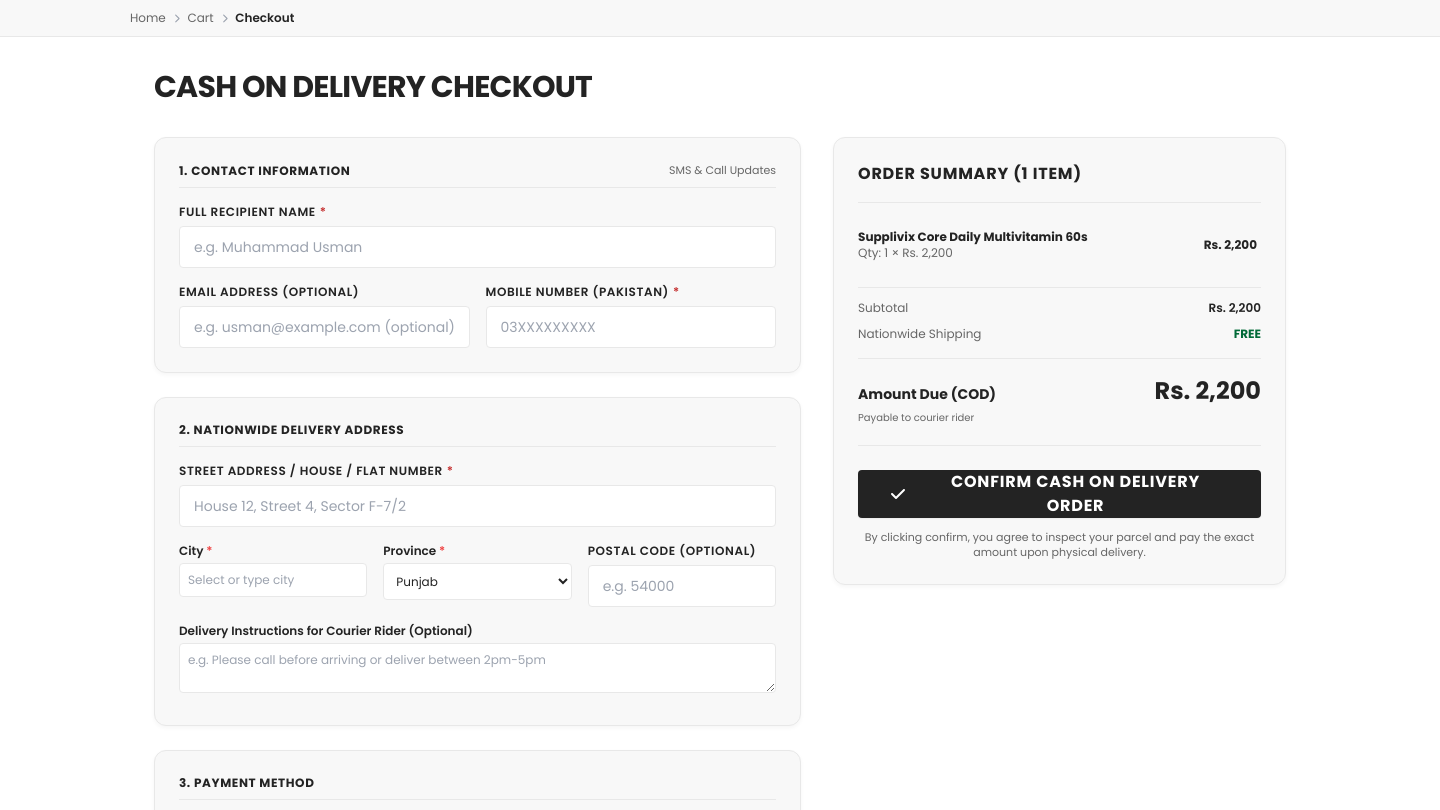
Test: Phase 9: Cart, Shipping, Coupon & COD Component Suite › COD-05: CheckoutPage validates Pakistani mobile number format strictly
This screenshot has width=1440, height=810.
Expected: the heading "Cash on Delivery Checkout" is shown, [154,66,592,108]
Type "12345" into the field labelled "Mobile Number (Pakistan)*" at (631,327), box [486,306,776,348]
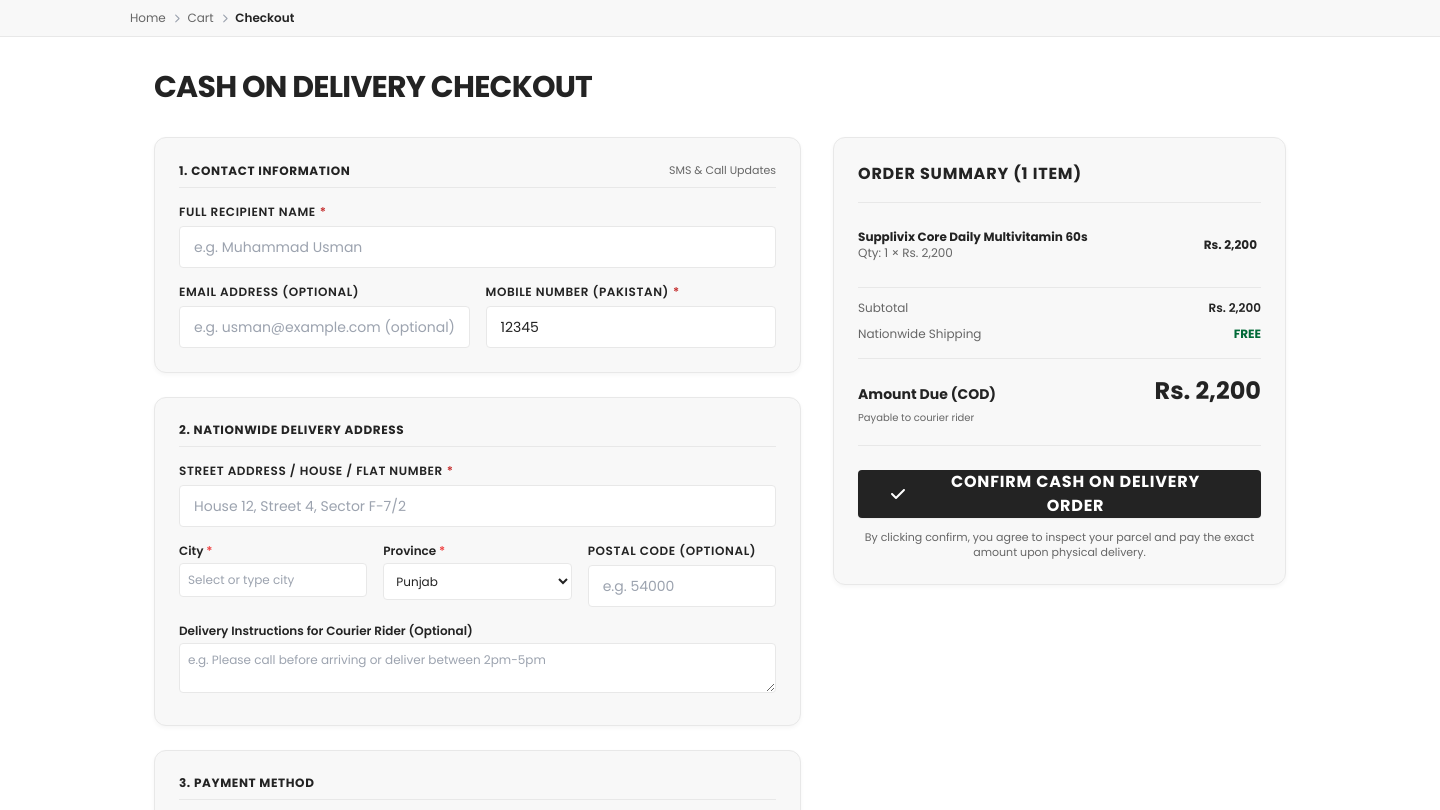
Click the button "Confirm Cash on Delivery Order" at (1060,494), box [858,470,1261,518]
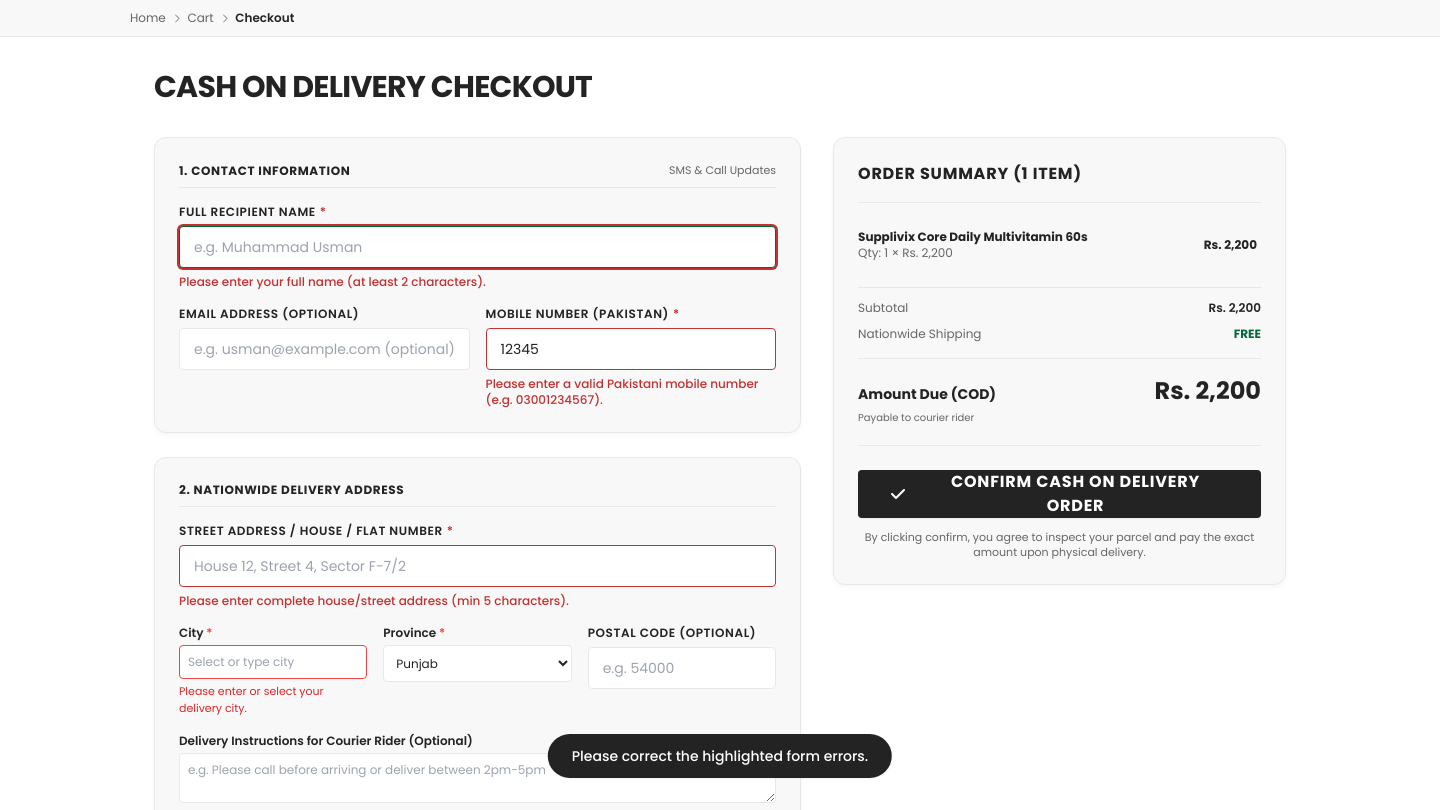
Expected: the text "Please enter a valid Pakistani mobile number (e.g. 03001234567)." is shown, [486,376,776,408]
